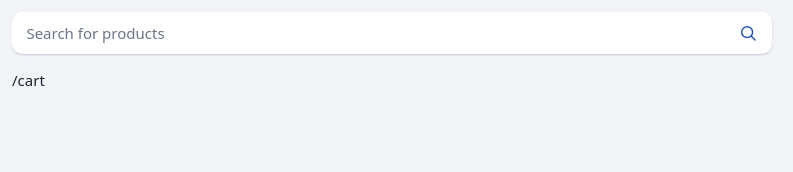
Test case: SearchBox and the address › goes to the product list when Enter is pressed on an empty box
Step 1. Click the dropdown named "Search products" → click(368, 33), box 12,12 -> 724,54
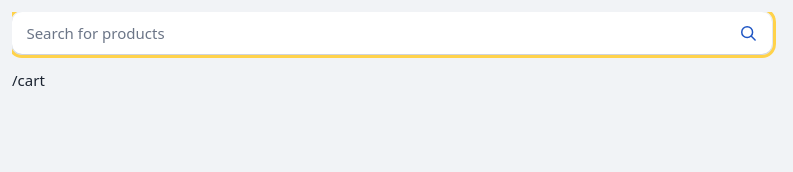
Step 2. Press Enter
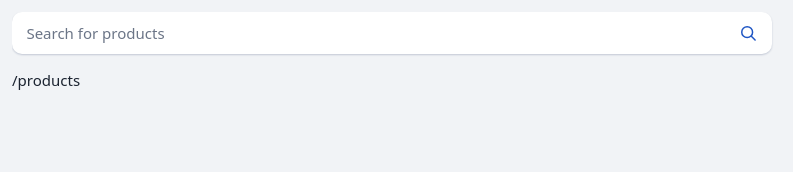
Now the text with test id "where" reads "/products", box 12,70 -> 80,90
